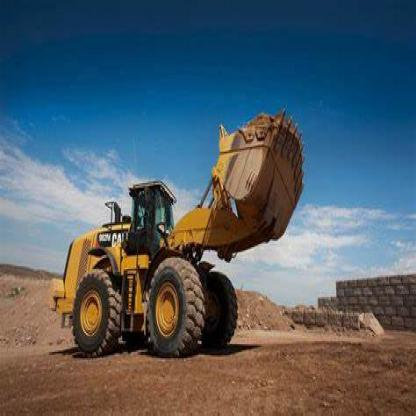bull_dozer/loader/grader: (52, 95, 310, 360)
